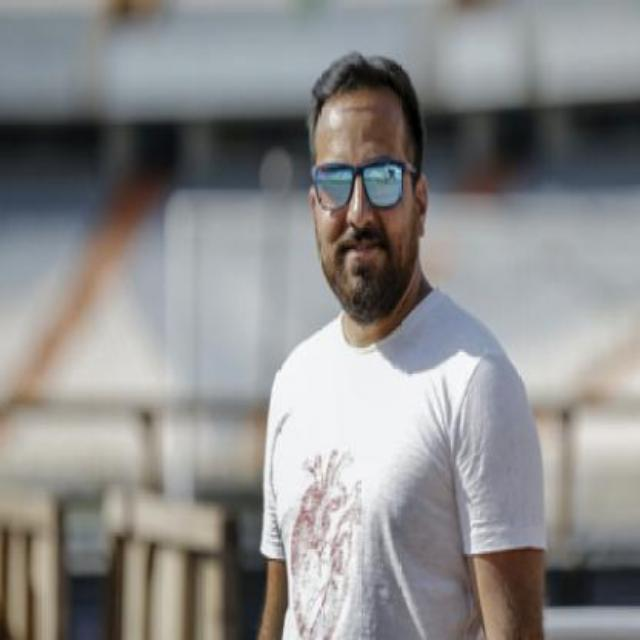glasses: (312, 158, 416, 208)
